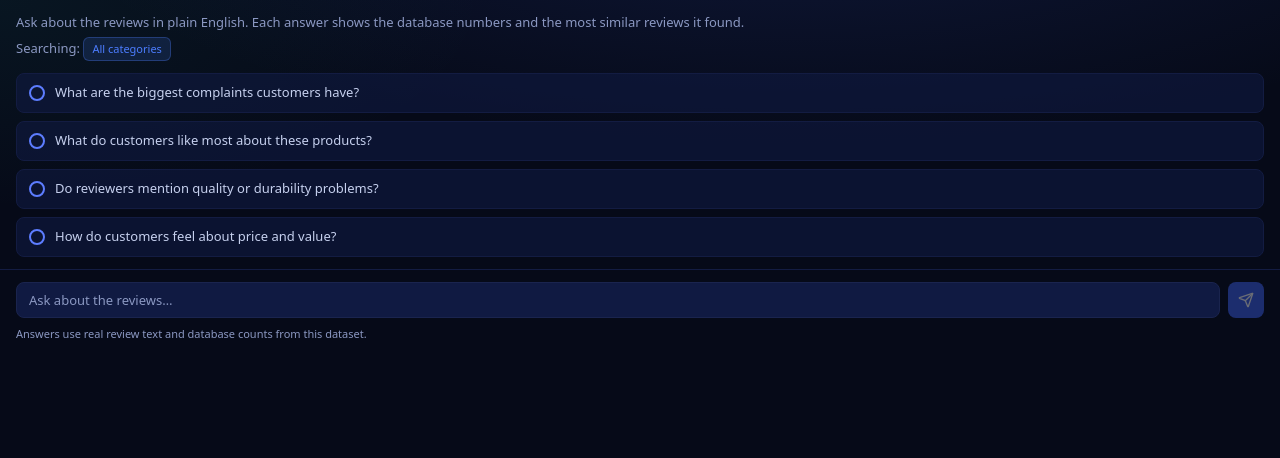
AssistantChat › shows the model answer when the LLM was used
Type "What breaks first?" into the field named "ask a question". click: {"x": 618, "y": 300}
box: [16, 282, 1220, 318]
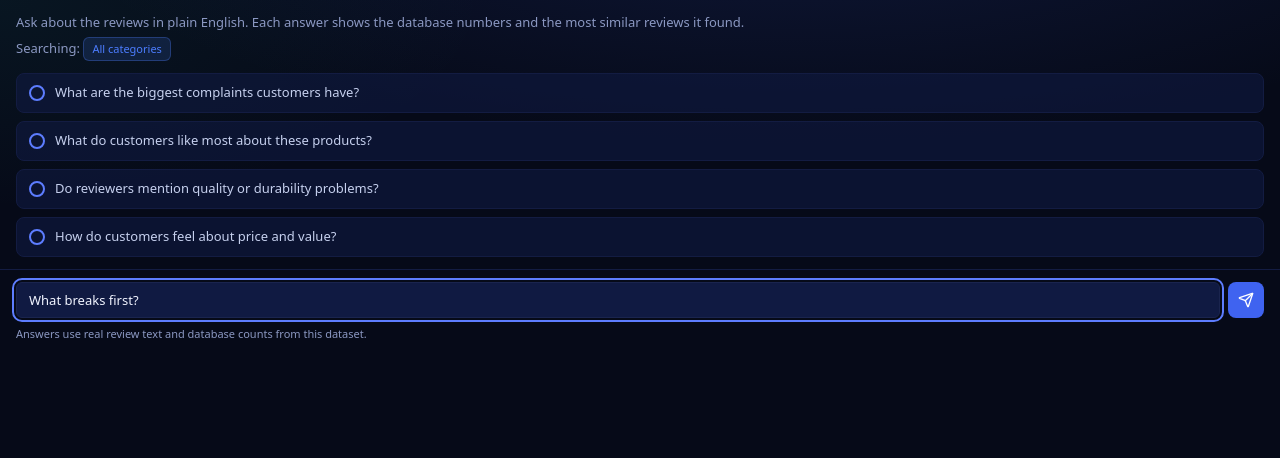
Click the button named "send question". click: {"x": 1246, "y": 300}
box: [1228, 282, 1264, 318]
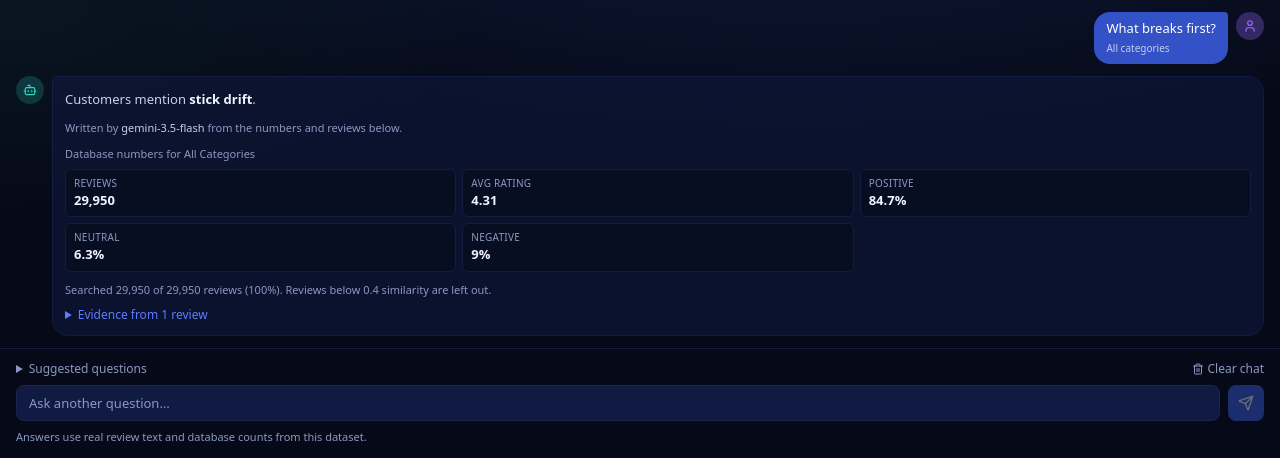
Check: the text "stick drift" is shown, box [189, 90, 252, 108]
Check: the text "Written by" shows "Written by gemini-3.5-flash", box [65, 120, 402, 135]
